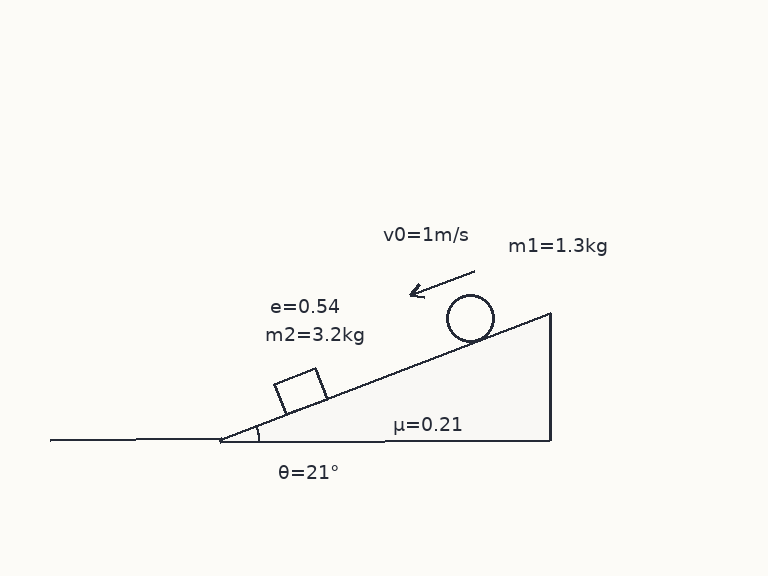ball: (444, 292, 496, 344)
block: (272, 366, 329, 416)
ramp: (217, 311, 551, 442)
